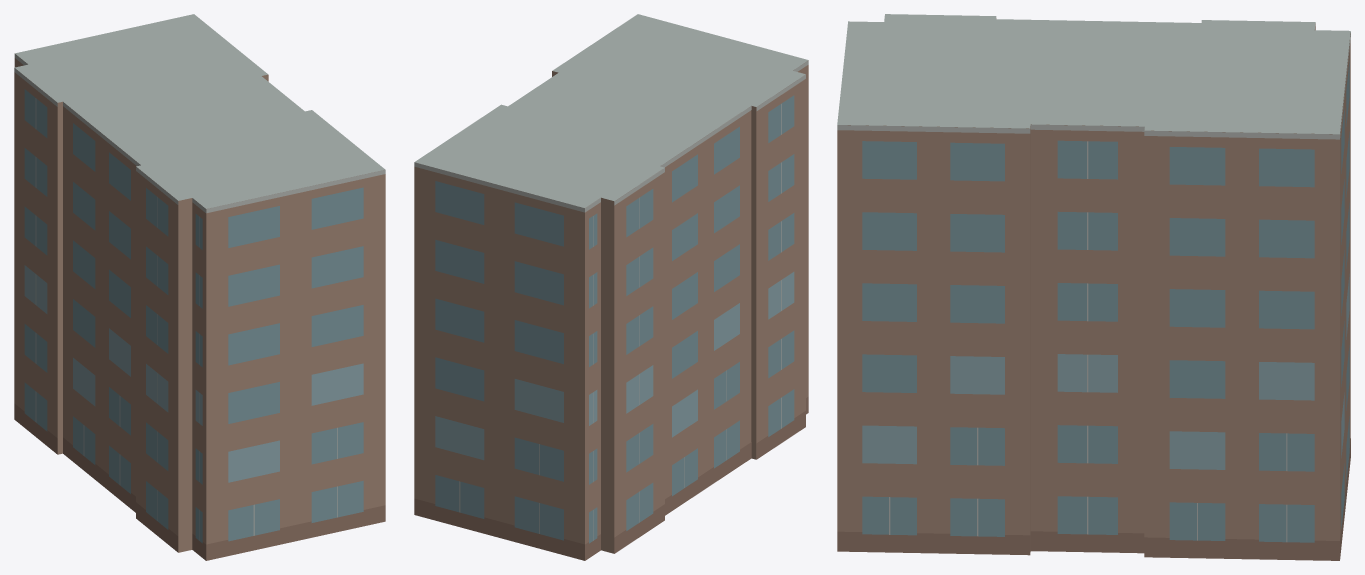
File: survey-upis-33037424.glb
The picture shows the model from 3 angles, left to right: view 1: azimuth 30°, elevation 25°; view 2: azimuth 150°, elevation 25°; view 3: azimuth 270°, elevation 25°; orthographic projection. The views are drawn at different scales.
Parts seen in each view (by area): view 1: survey-upis-33037424.tmp; view 2: survey-upis-33037424.tmp; view 3: survey-upis-33037424.tmp.
Boxes of the visible parts, x1,y1,x2,y2 form: survey-upis-33037424.tmp: [14, 14, 385, 560]; survey-upis-33037424.tmp: [414, 14, 808, 560]; survey-upis-33037424.tmp: [837, 14, 1350, 560].
Bounding box in the file's own units: 11.89 × 19.65 × 21.45.
